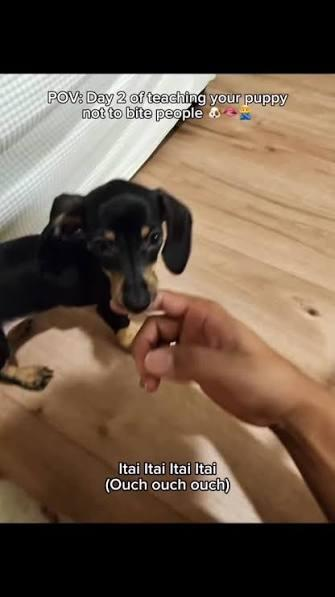non-dog: (127, 291, 335, 522)
puppy-dog: (0, 179, 195, 390)
